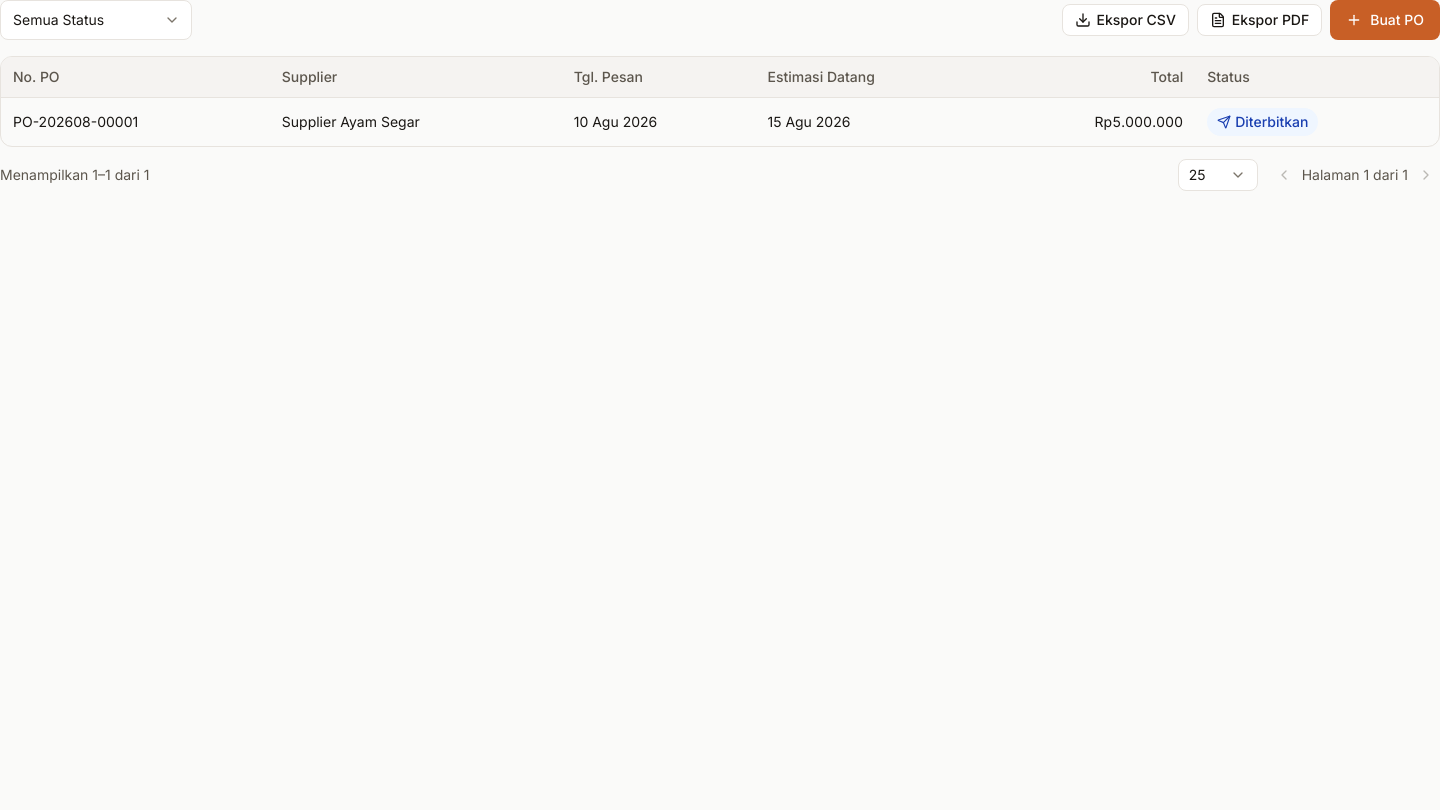
PurchaseOrdersPanel — status ladder + D-20 price lock › a PO with a paid DP reads Dibayar Sebagian and shows what is still owed
Click the text "PO-202608-00001" at (135, 122), box [1,98,270,146]
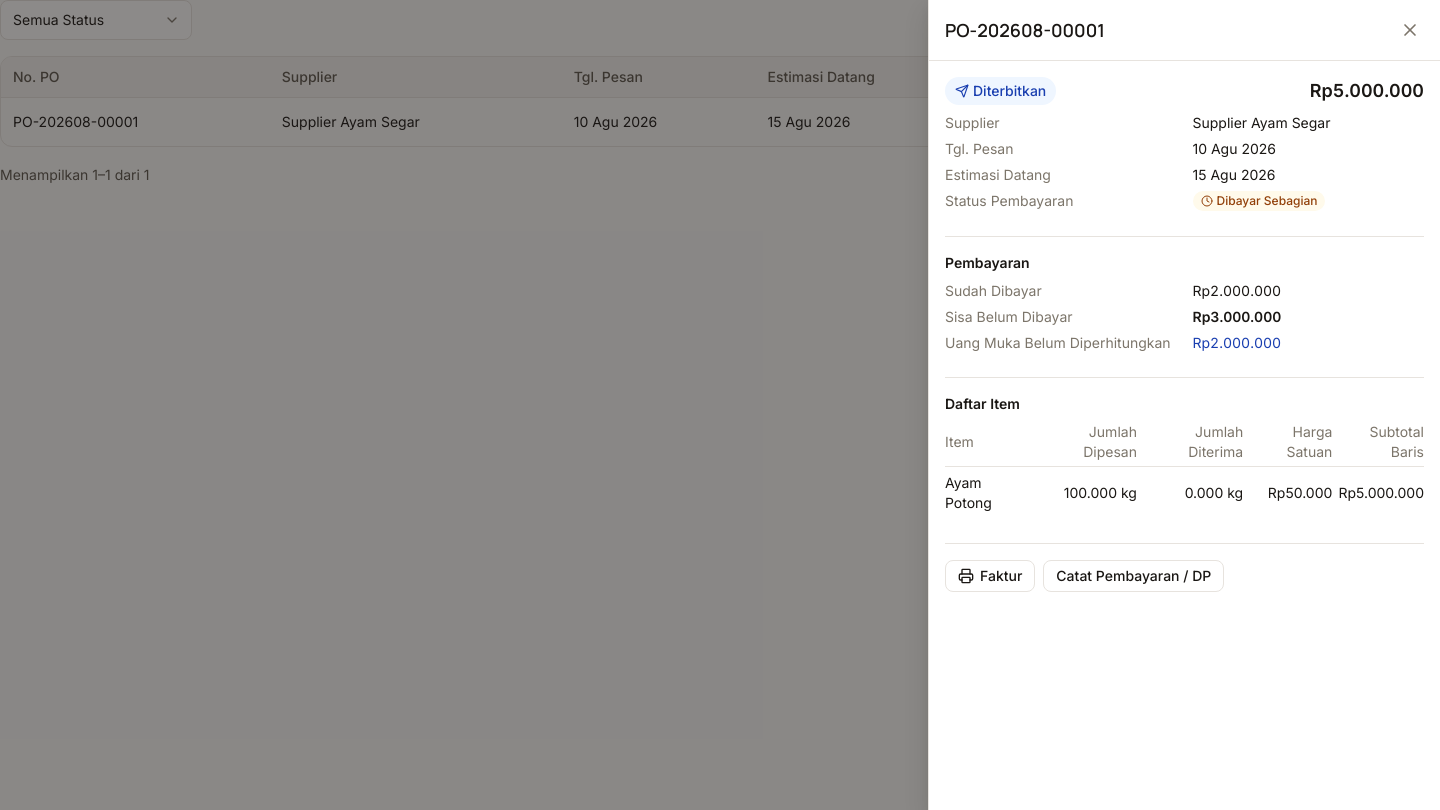
Result: the text "Dibayar Sebagian" is shown at [1192,191,1326,211]
Result: the text "Sisa Belum Dibayar" is shown at [945,308,1072,325]
Result: the text "Uang Muka Belum Diperhitungkan" is shown at [945,333,1176,353]
